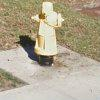Hydrant: (27, 0, 67, 63)
